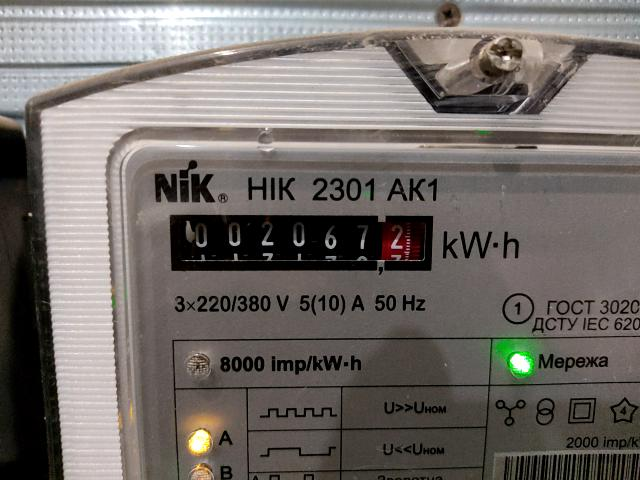0: (192, 221, 210, 250), (289, 219, 307, 247), (226, 219, 243, 248)
2: (388, 222, 406, 251), (259, 219, 276, 248)
6: (322, 222, 340, 251)
7: (355, 222, 371, 252)
screen: (156, 202, 448, 284)
